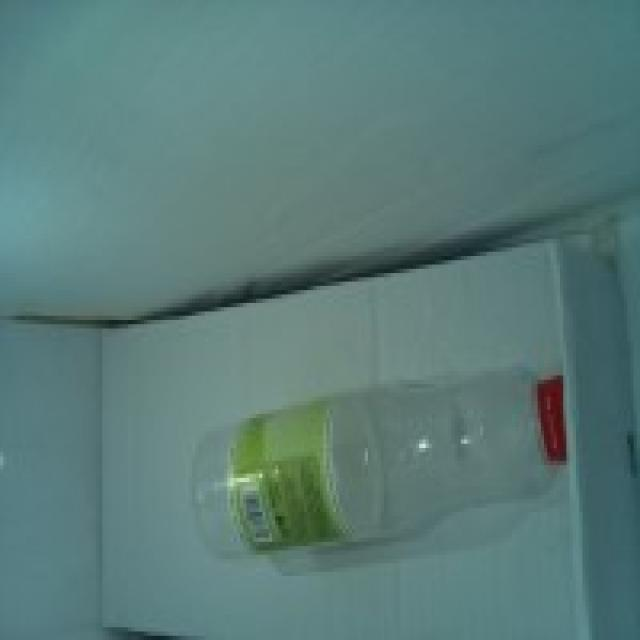Anorganik: (182, 350, 573, 563)
